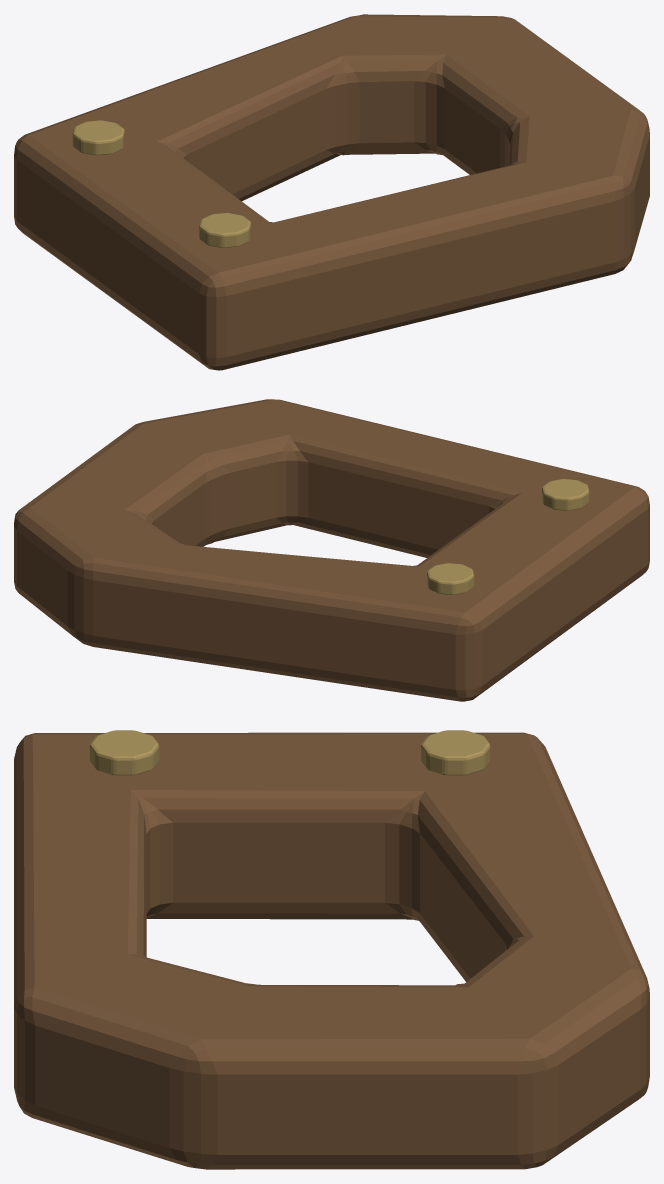
Rendered from SawHandle.fbx.
3 views of the same model, one above another, from view 1: azimuth 30°, elevation 25°; view 2: azimuth 150°, elevation 25°; view 3: azimuth 270°, elevation 25° (orthographic). The views are drawn at different scales.
Parts seen in each view (by area): view 1: Saw handle, Handle fixing.001, Handle fixing; view 2: Saw handle, Handle fixing.001, Handle fixing; view 3: Saw handle, Handle fixing, Handle fixing.001.
Boxes of the visible parts, x1=… form: Saw handle: x1=14, y1=14, x2=649, y2=370; Handle fixing.001: x1=72, y1=120, x2=124, y2=155; Handle fixing: x1=199, y1=213, x2=251, y2=247; Saw handle: x1=14, y1=399, x2=649, y2=701; Handle fixing.001: x1=426, y1=563, x2=474, y2=594; Handle fixing: x1=542, y1=479, x2=589, y2=510; Saw handle: x1=14, y1=732, x2=649, y2=1169; Handle fixing: x1=89, y1=730, x2=159, y2=775; Handle fixing.001: x1=421, y1=730, x2=490, y2=775.
Bounding box in the file's own units: 17.5 × 3.65 × 14.4.
